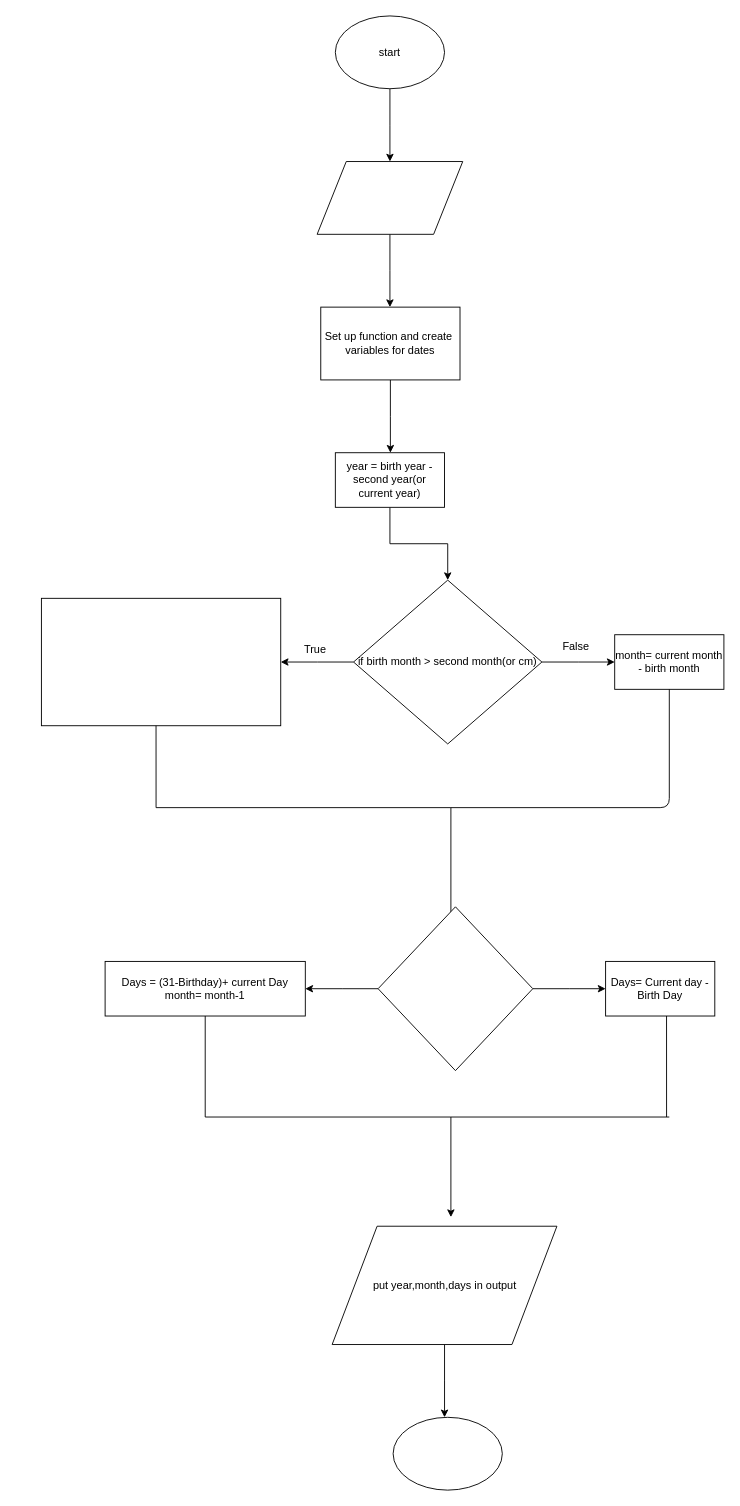
This 740x1506 diagram has some shape labels left out. Here are the shapes that lost their labels. From the top down, the centre of each, then its label:
[389,197]: put input in date Box
[160,661]: month =( 12 -birthMonths)+current Month; year = year- 1 ;
[455,988]: if Birth Day > Current Day
[447,1453]: end;
